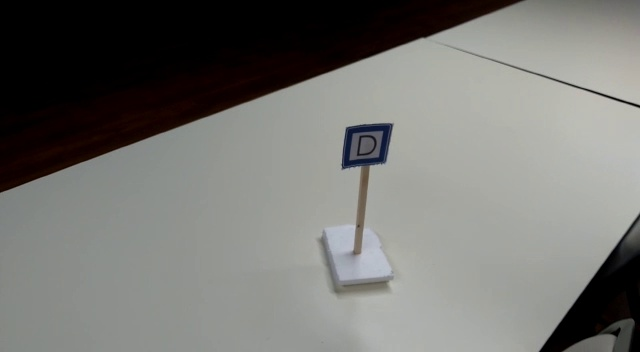durak: (342, 119, 394, 168)
